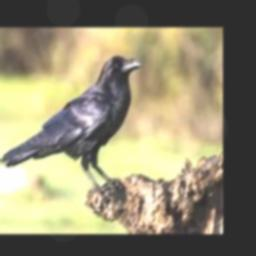Crow: (0, 55, 143, 199)
